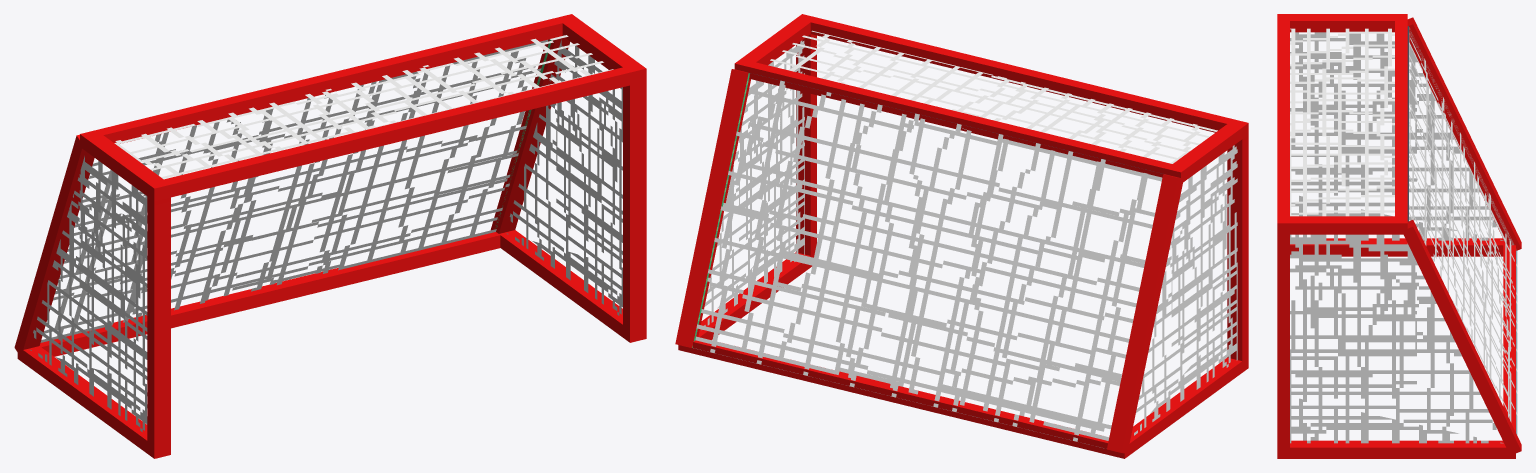
File: hockey-goal-red-bigger-named-nodes.gltf
The picture shows the model from 3 angles, left to right: view 1: azimuth 30°, elevation 25°; view 2: azimuth 150°, elevation 25°; view 3: azimuth 270°, elevation 25°; orthographic projection. The views are drawn at different scales.
Visible parts, largest first — view 1: obj1; view 2: obj1; view 3: obj1.
Boxes of the visible parts, left/top/right/bottom form: obj1: left=14, top=14, right=646, bottom=458; obj1: left=675, top=14, right=1248, bottom=458; obj1: left=1277, top=14, right=1521, bottom=458.
Size of the model in its own units: 8 by 4.2 by 3.94.
Materials: 5 (4 with a texture image).
